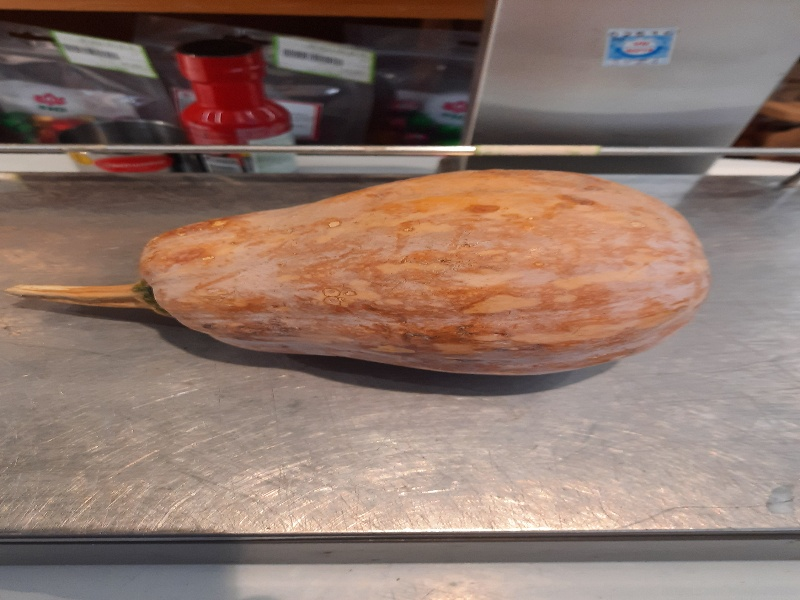vege: (11, 169, 715, 381)
